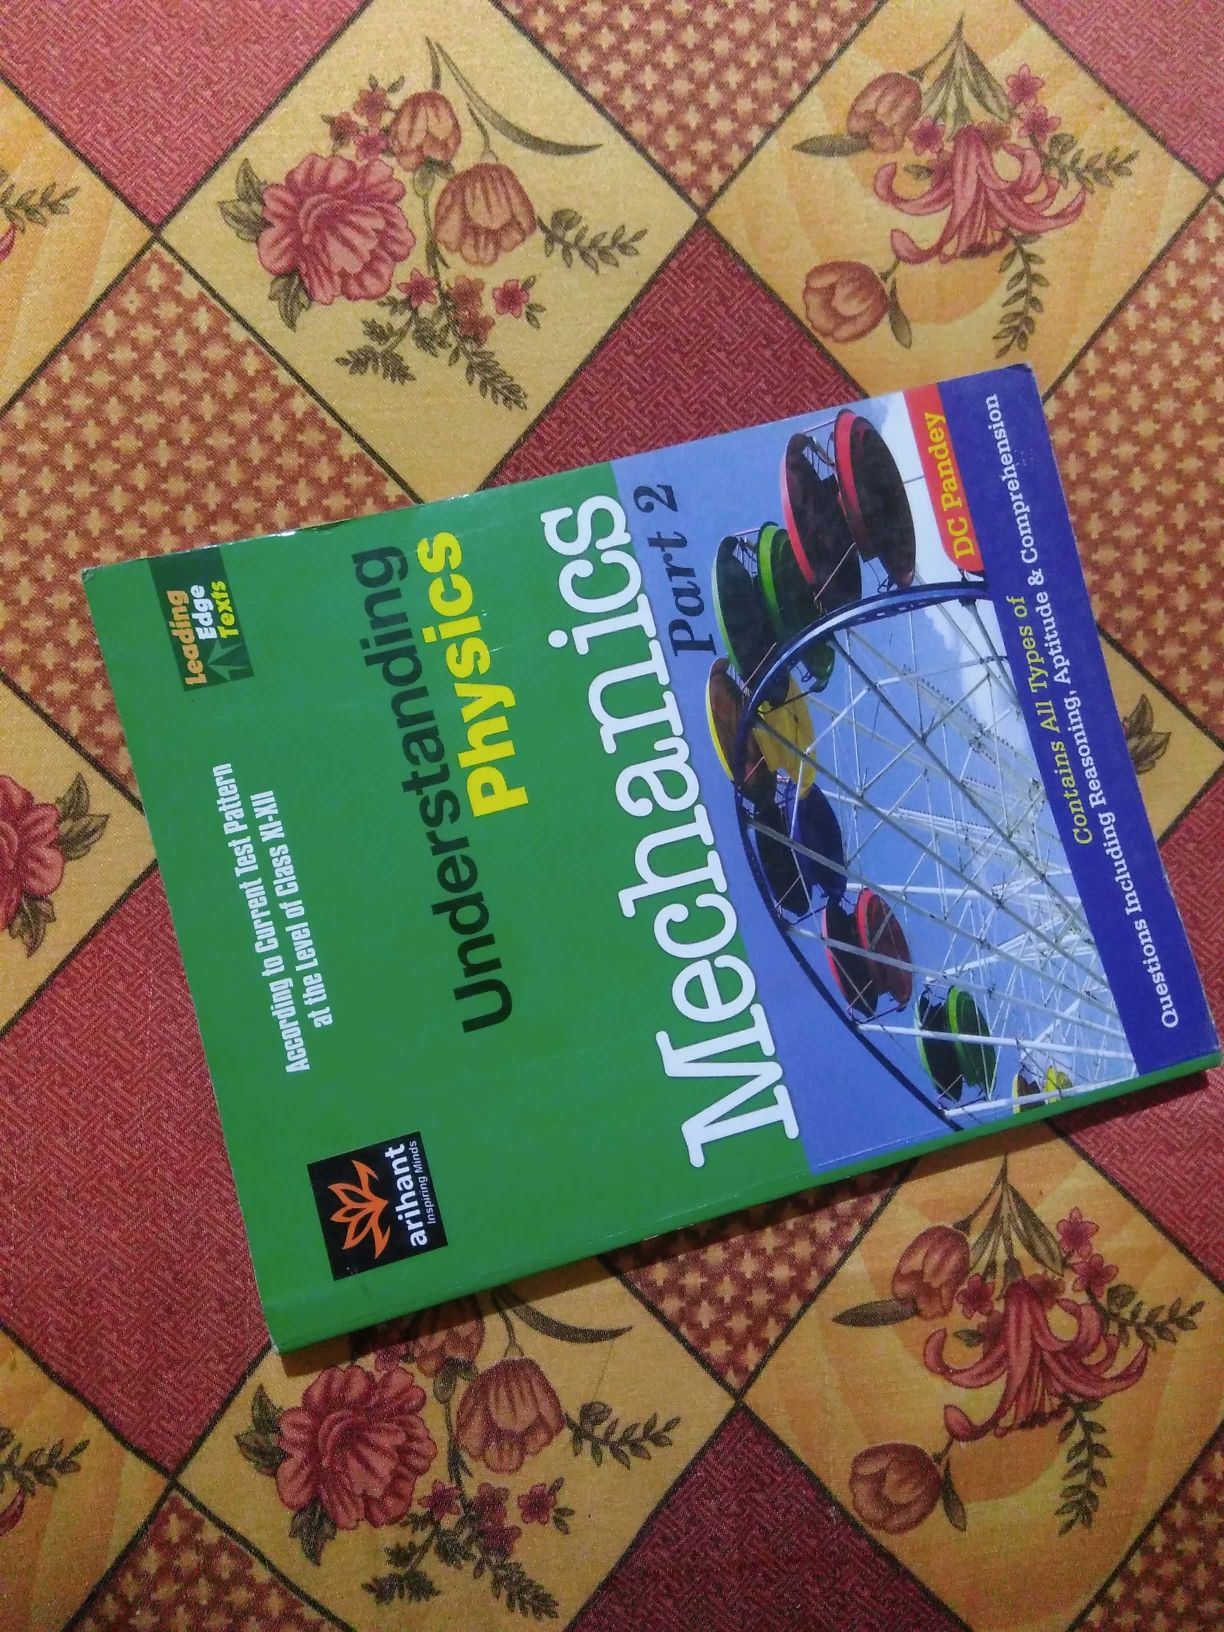mechanics: (42, 445, 1187, 1343)
